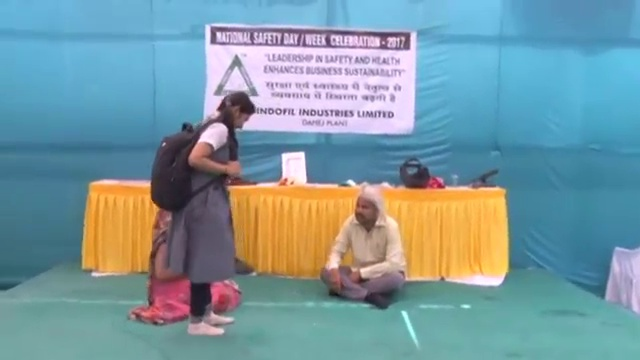helmet_off: (216, 93, 255, 131), (353, 193, 382, 228)
person: (149, 91, 256, 335), (321, 191, 409, 307)
